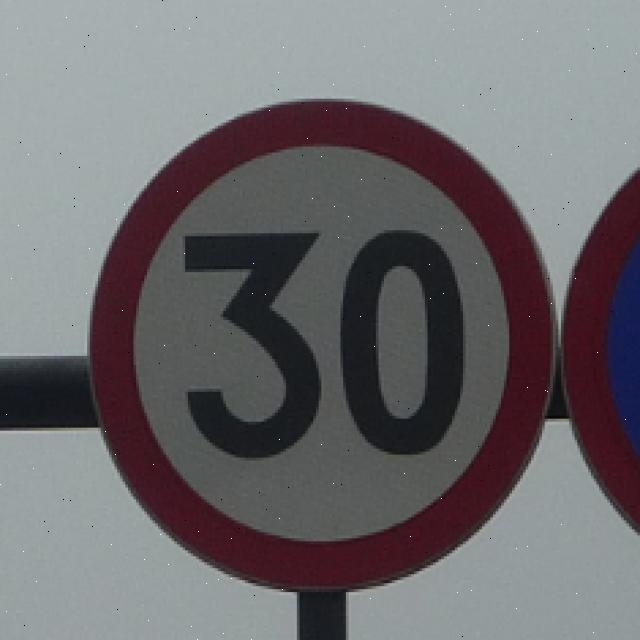speed limit 30: (86, 99, 558, 591)
